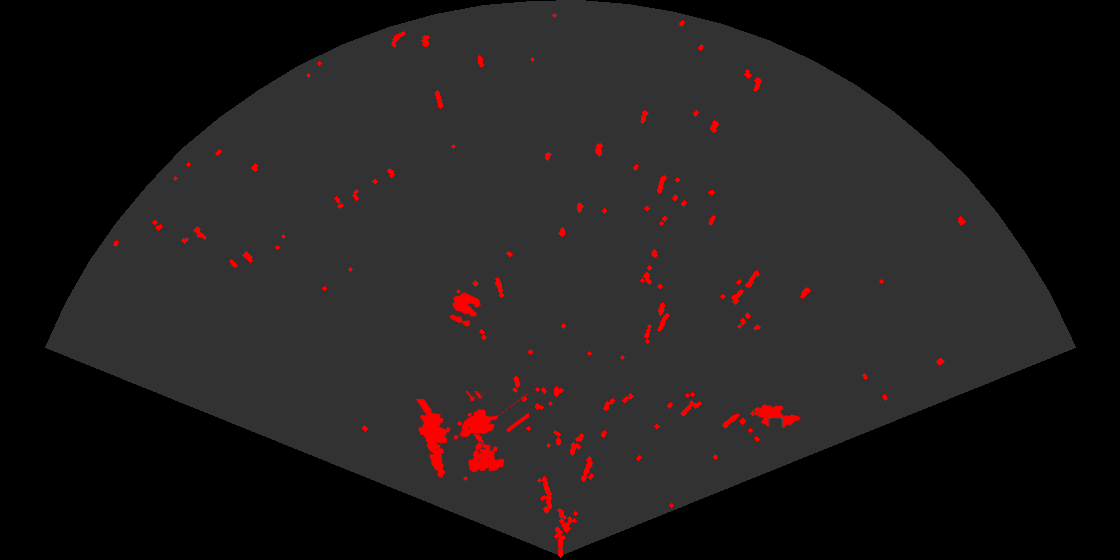AUV: (753, 403, 802, 429)
ball: (448, 291, 483, 328)
cage: (452, 391, 529, 474)
frogman: (414, 399, 452, 479)
